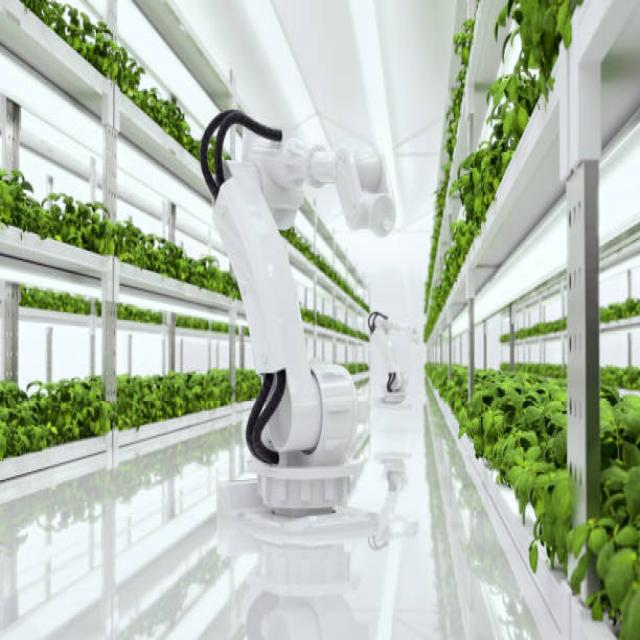Robotic-arm: (195, 86, 405, 523), (364, 284, 406, 409)
